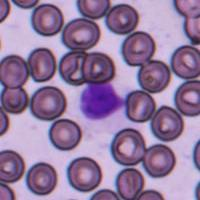L: (78, 82, 124, 124)
